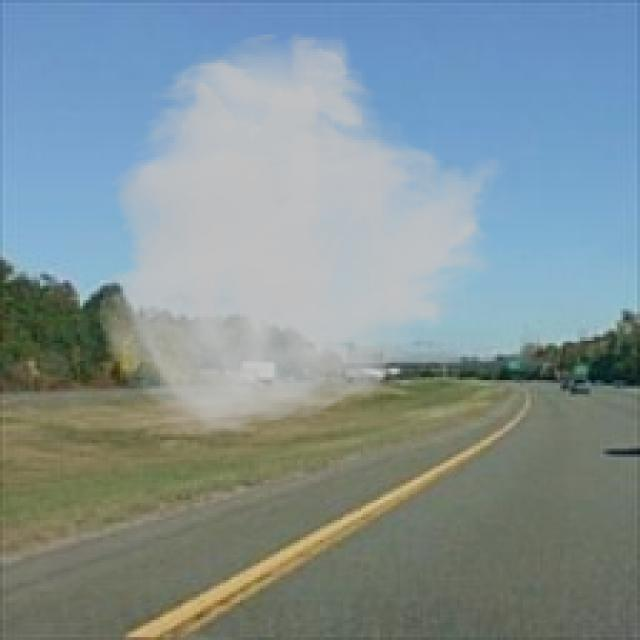smoke: (94, 29, 509, 440)
